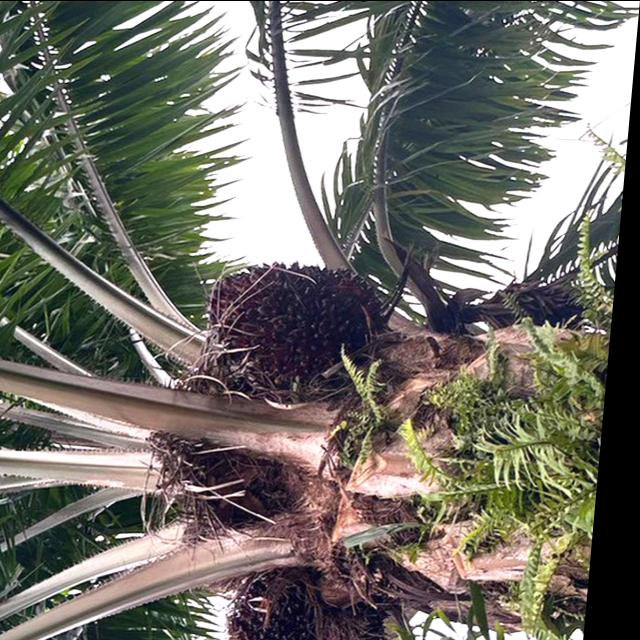ripe: (184, 244, 407, 416)
